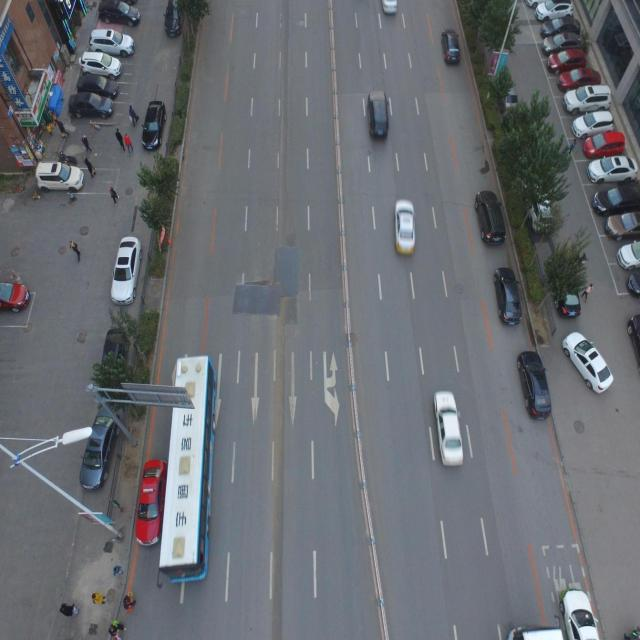p3rson: (60, 600, 80, 616), (580, 283, 594, 304), (55, 119, 69, 139), (108, 620, 126, 635), (114, 128, 125, 151), (84, 157, 96, 178), (122, 594, 136, 612), (124, 132, 134, 156), (69, 239, 79, 262), (128, 105, 138, 127), (108, 185, 118, 206), (81, 134, 92, 152), (91, 591, 105, 605), (566, 138, 576, 156), (44, 123, 54, 138), (113, 564, 123, 576), (114, 633, 124, 640)
